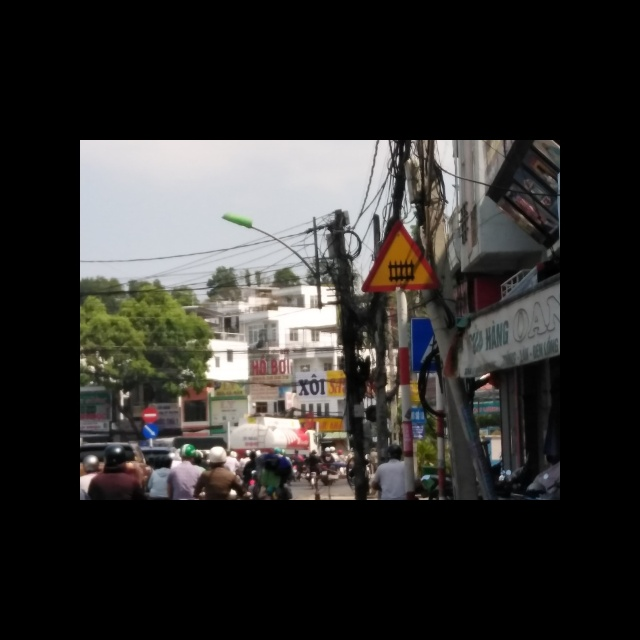Giao nhau với đường sắt có rào chắn: (362, 218, 442, 294)
